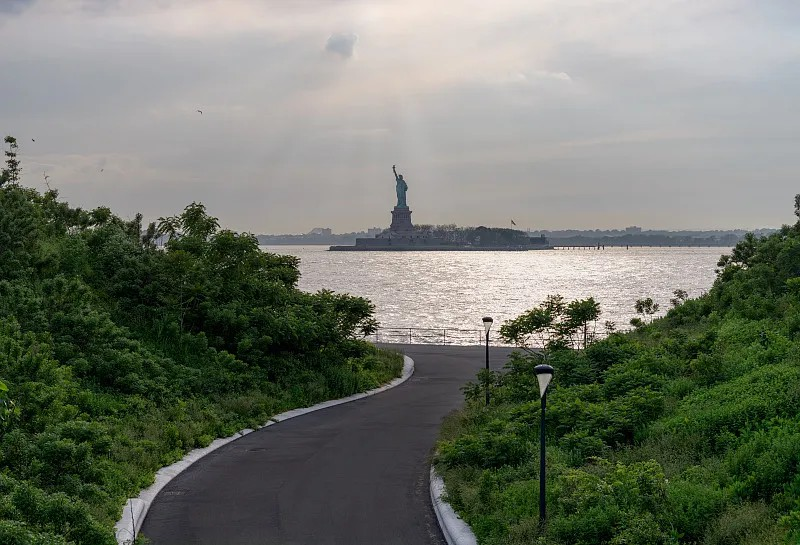SL: (388, 164, 412, 228)
